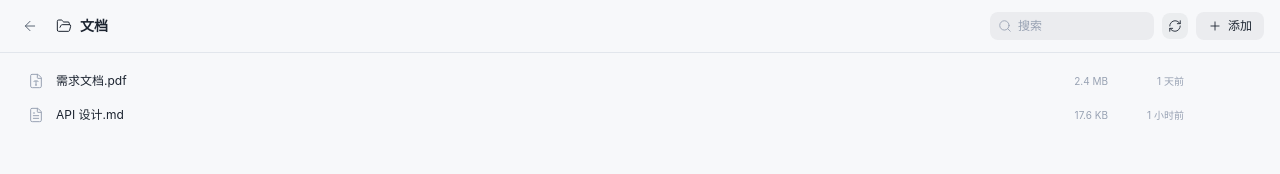
Scenario: DocumentsPanel 刷新 › 点刷新会重新拉列表，并渲染出新出现的文件
Expected: the element with test id "documents-row-需求文档.pdf" is shown, [28,73,1184,89]
Expected: the text "GitHub-AI-日报-2026-08-05.md" is not shown
Click the button with test id "documents-refresh" at coordinates (1175, 26), box [1162,13,1188,39]
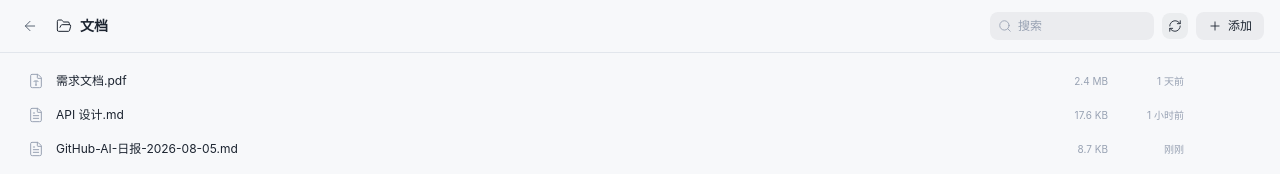
Result: the button "GitHub-AI-日报-2026-08-05.md" is shown at [56,141,1066,157]
